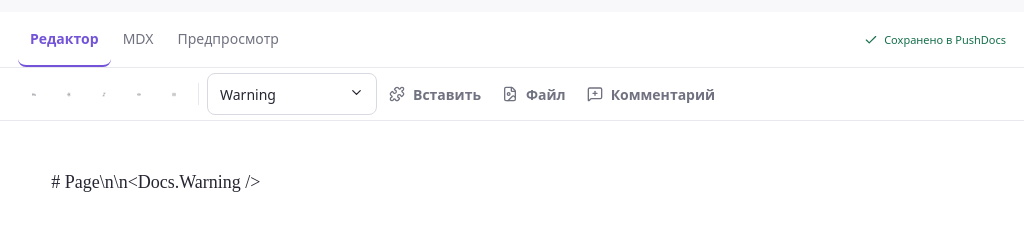
Scenario: DocumentEditor modes and formatting › replaces custom component tags in the preview
What coordinates should you click on to do the following:
click the tab "Предпросмотр"
I would click on:
 (228, 40)
Its box is [166,12,291,67].
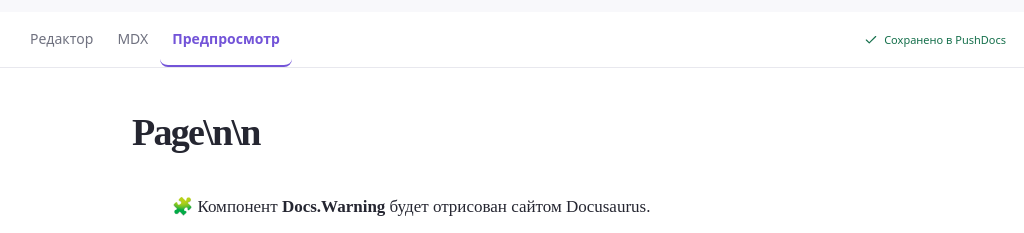
Expected: the text "🧩 Компонент Docs.Warning будет отрисован сайтом Docusaurus." is shown, [172,197,650,216]
